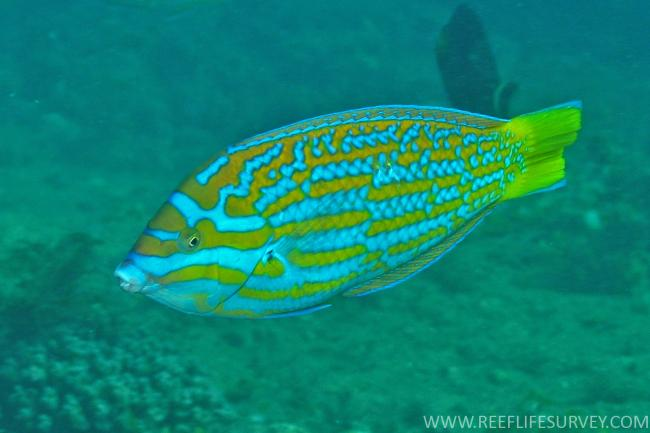fish: (116, 105, 580, 322)
